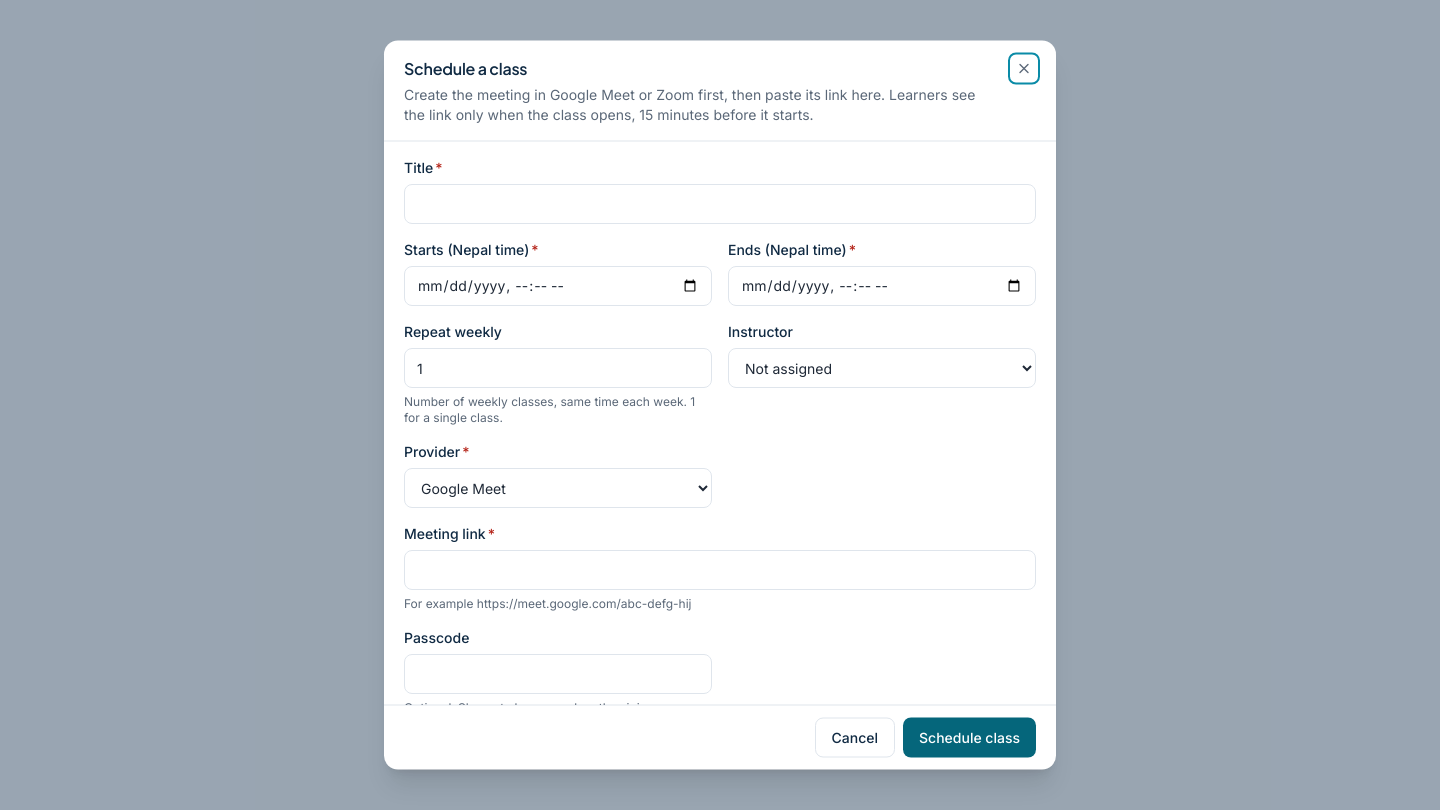
Test: SessionDialog › keeps the class length when the start moves
Type "2026-11-02T18:00" into the field labelled "Starts (Nepal time)*". click: (558, 286)
box: [404,266,712,306]
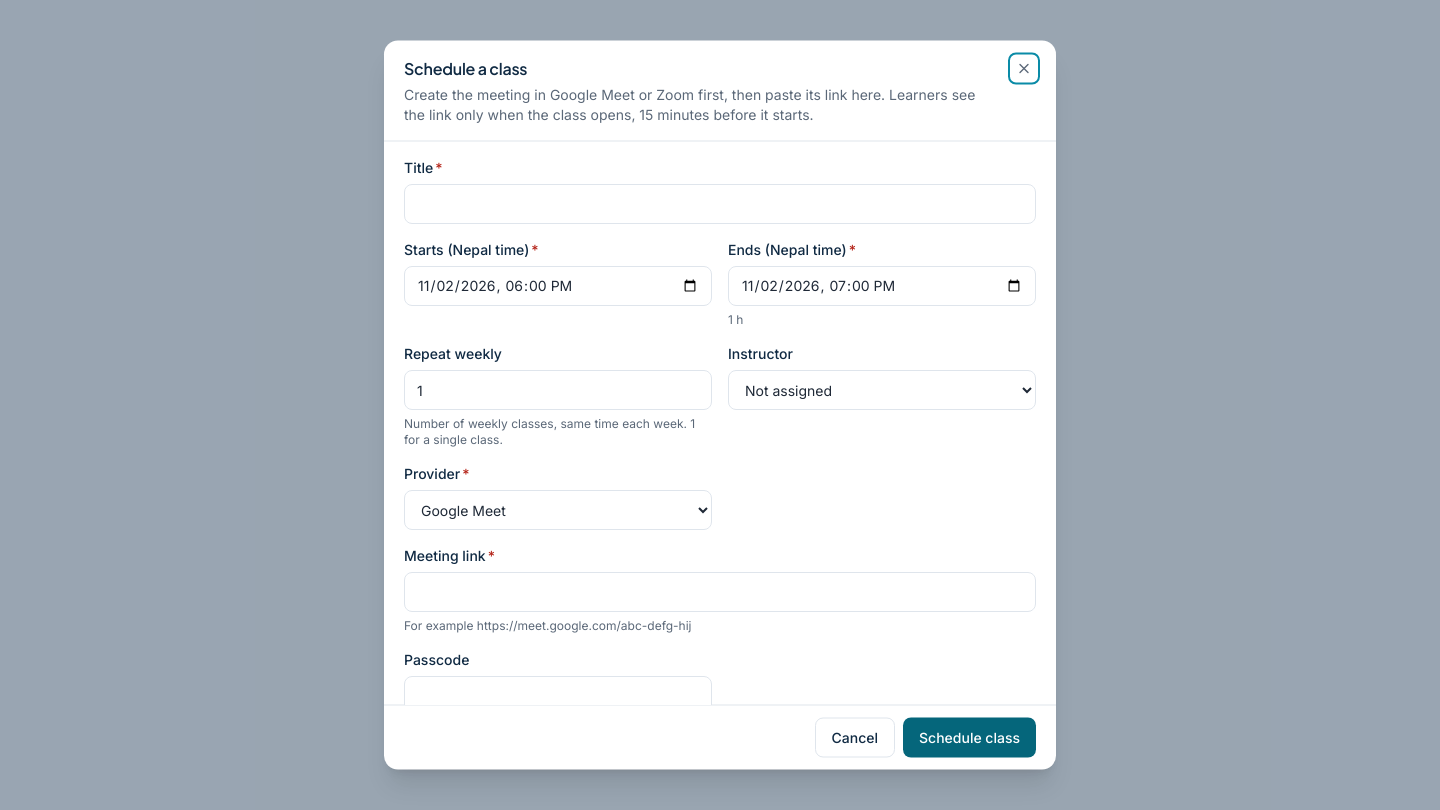
Replace the text in the field labelled "Ends (Nepal time)*" with "2026-11-02T18:45". click: (882, 286)
box: [728,266,1036,306]
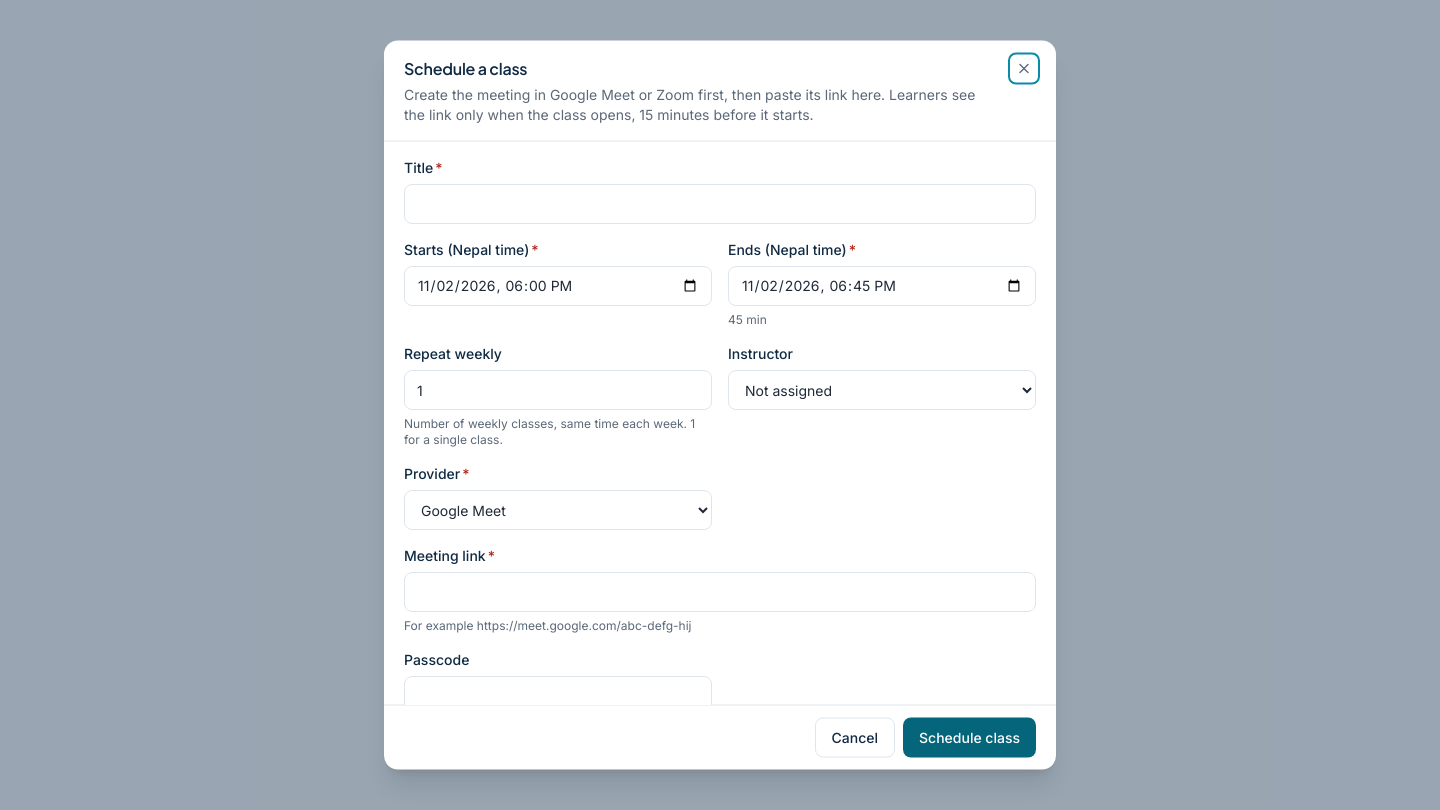
Replace the text in the field labelled "Starts (Nepal time)*" with "2026-11-02T23:30". click: (558, 286)
box: [404,266,712,306]
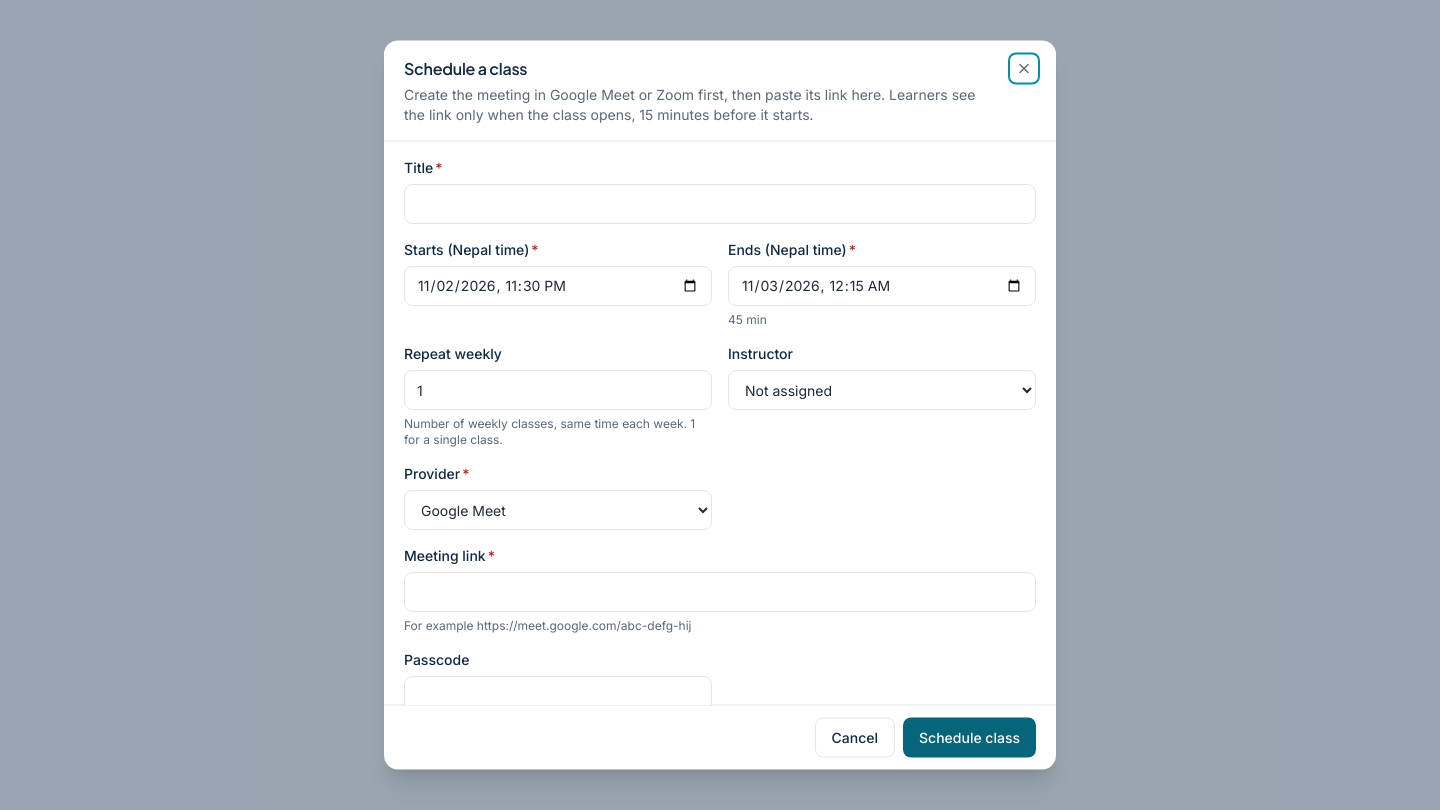
Now the field labelled "Ends (Nepal time)*" holds "2026-11-03T00:15", box [728,266,1036,306]
